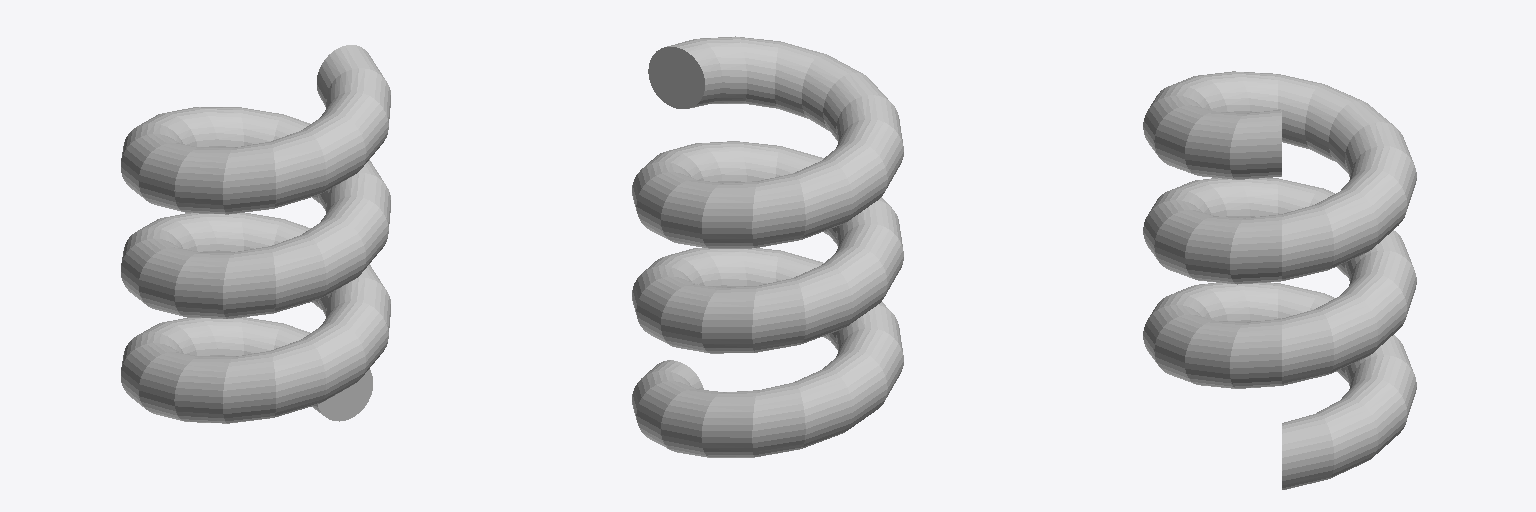
Rendered from spring.obj.
The picture shows the model from 3 angles: view 1: azimuth 30°, elevation 25°; view 2: azimuth 150°, elevation 25°; view 3: azimuth 270°, elevation 25°; orthographic projection.
Visible parts, largest first — view 1: Circle.001; view 2: Circle.001; view 3: Circle.001.
Part boxes in pixels (left/top/right/bottom): Circle.001: left=121, top=45, right=390, bottom=423; Circle.001: left=632, top=36, right=903, bottom=457; Circle.001: left=1143, top=71, right=1416, bottom=489.
Size of the model in its own units: 0.7886 by 1.19 by 0.7886.